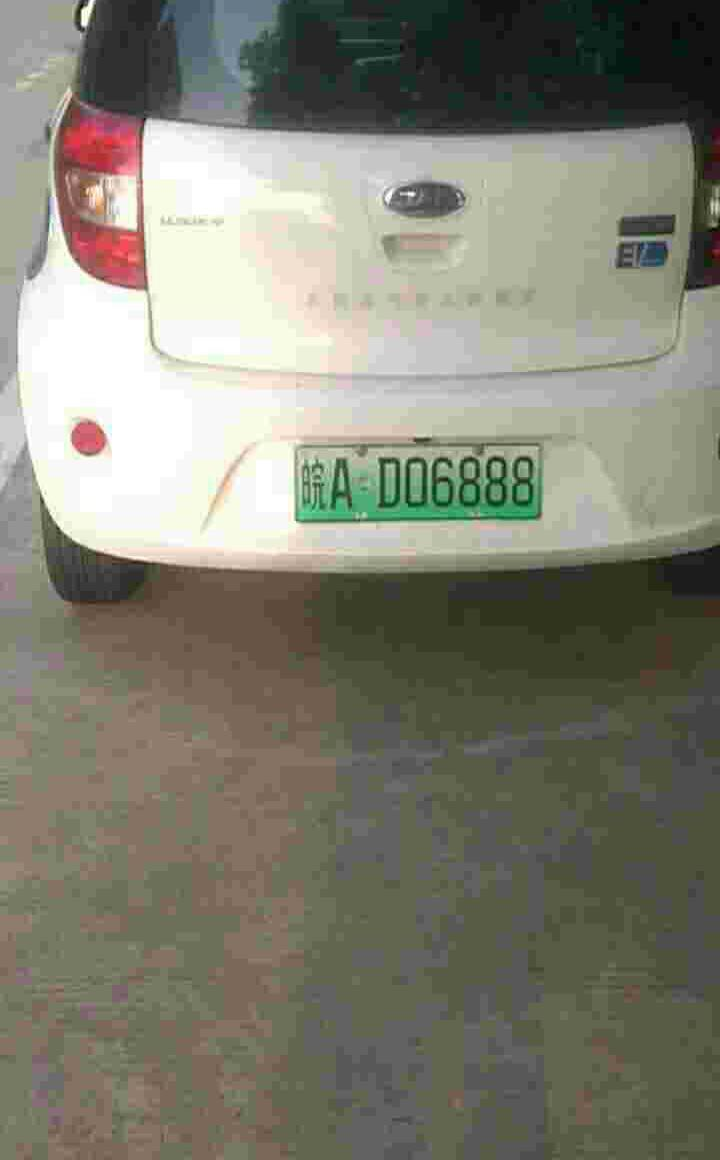car: (279, 446, 549, 529)
